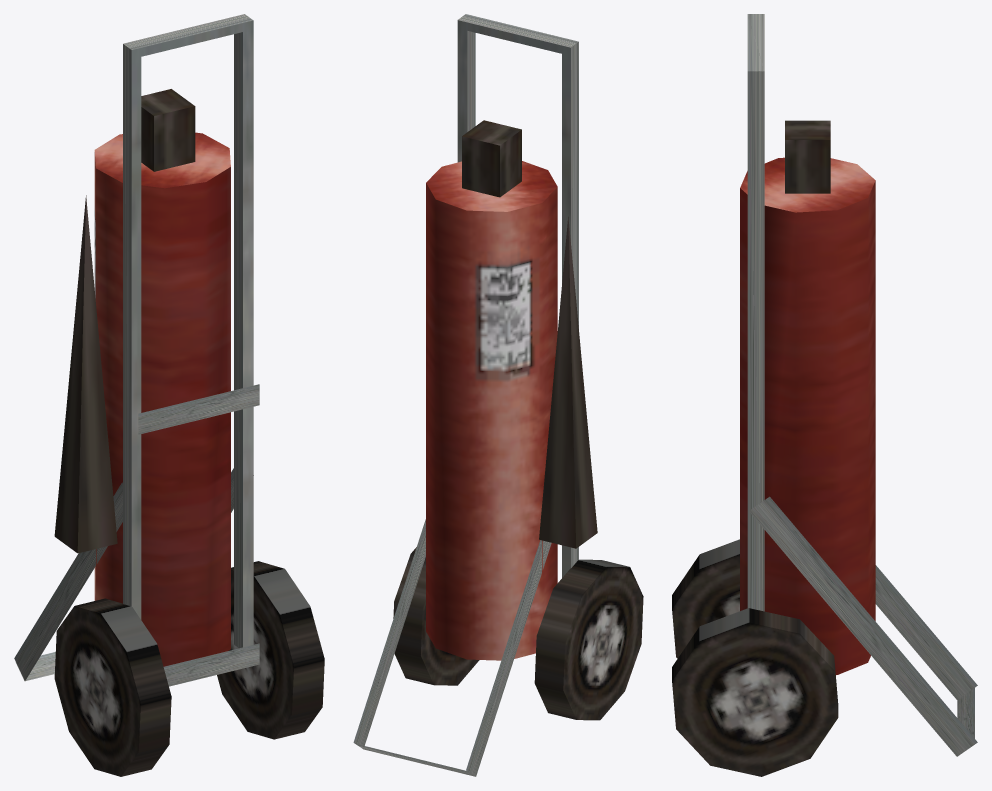
Rendered from FIREEXT1.glb.
3 views of the same model, side by side, from view 1: azimuth 30°, elevation 25°; view 2: azimuth 150°, elevation 25°; view 3: azimuth 270°, elevation 25° (orthographic). The views are drawn at different scales.
Parts seen in each view (by area): view 1: _FIREEXT1; view 2: _FIREEXT1; view 3: _FIREEXT1.
Boxes of the visible parts, <box> form: _FIREEXT1: <box>14,14,324,776</box>; _FIREEXT1: <box>353,14,643,776</box>; _FIREEXT1: <box>672,14,977,776</box>.
Size of the model in its own units: 0.4657 by 1.67 by 0.6709.
1 material, 1 textured.
